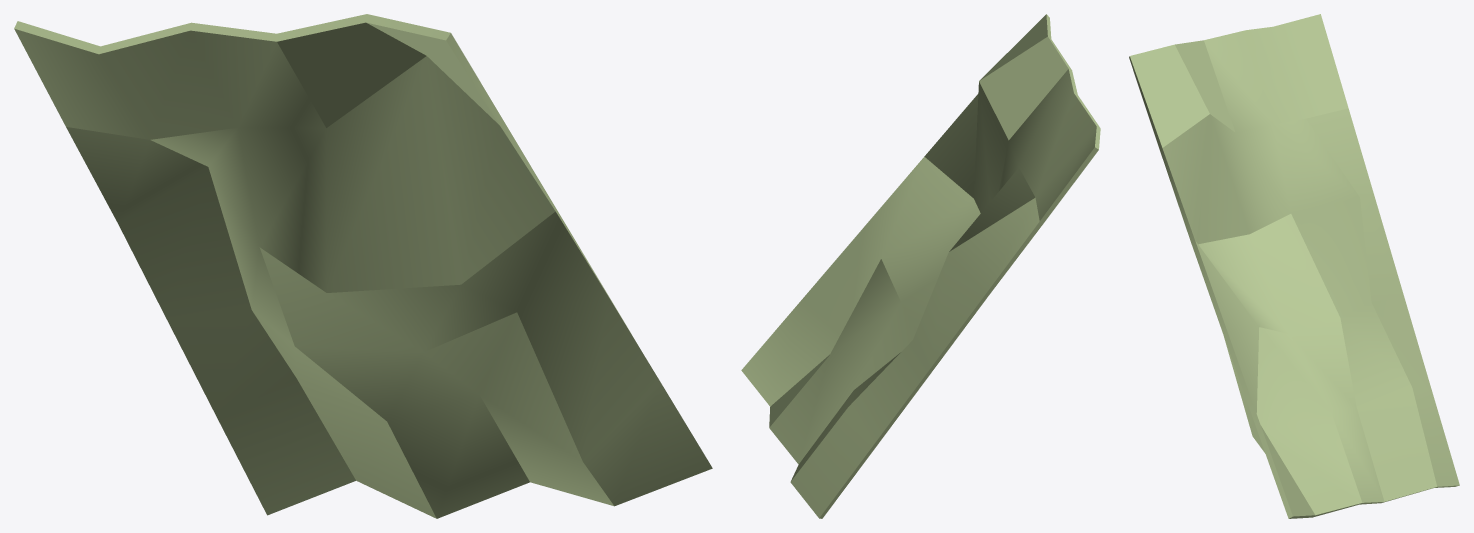
File: techo4.glb
3 renders of one model, left to right at view 1: azimuth 30°, elevation 25°; view 2: azimuth 150°, elevation 25°; view 3: azimuth 270°, elevation 25°, orthographic. The views are drawn at different scales.
Visible parts, largest first — view 1: Plane.004; view 2: Plane.004; view 3: Plane.004.
Part boxes in pixels (x1,y1,x2,y2): Plane.004: [14, 14, 712, 518]; Plane.004: [741, 14, 1100, 518]; Plane.004: [1129, 14, 1459, 518].
Bounding box in the file's own units: 10.57 × 10.91 × 8.16.
